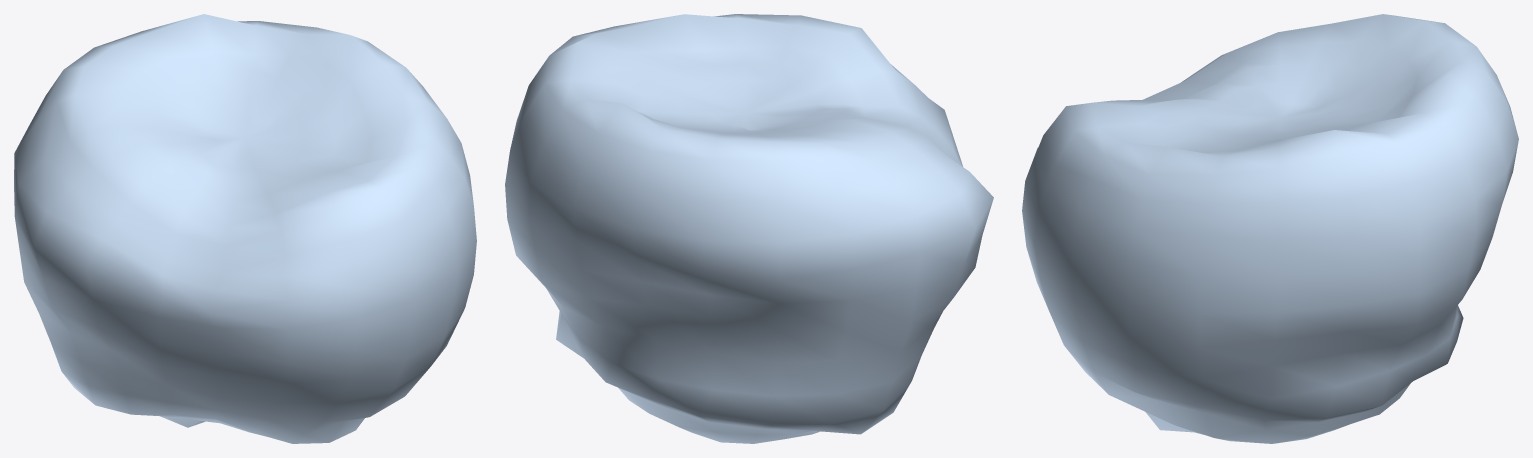
Rendered from lAsteroid2.obj.
The picture shows the model from 3 angles, left to right: view 1: azimuth 30°, elevation 25°; view 2: azimuth 150°, elevation 25°; view 3: azimuth 270°, elevation 25°; orthographic projection. The views are drawn at different scales.
Parts seen in each view (by area): view 1: sphere8; view 2: sphere8; view 3: sphere8.
Part boxes in pixels (bbox=[...]): sphere8: bbox=[14, 14, 476, 443]; sphere8: bbox=[505, 14, 993, 443]; sphere8: bbox=[1022, 14, 1518, 443].
Size of the model in its own units: 24.29 by 19.24 by 24.17.
